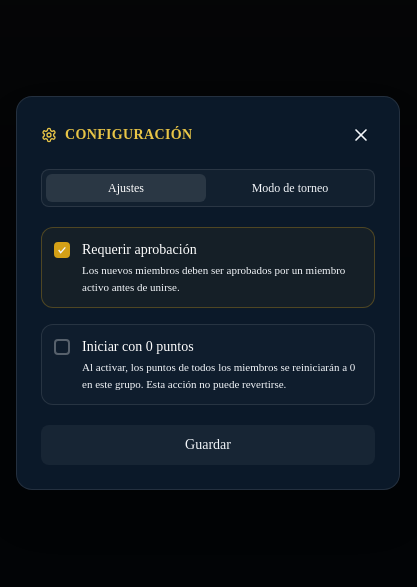
Scenario: TournamentSettingsModal – mutation callbacks › score_from_zero toggle shows confirmation panel when clicked
# Second checkbox is the score_from_zero toggle
Click the checkbox named "Iniciar con 0 puntos".
click(208, 364)  # box [41,324,375,405]
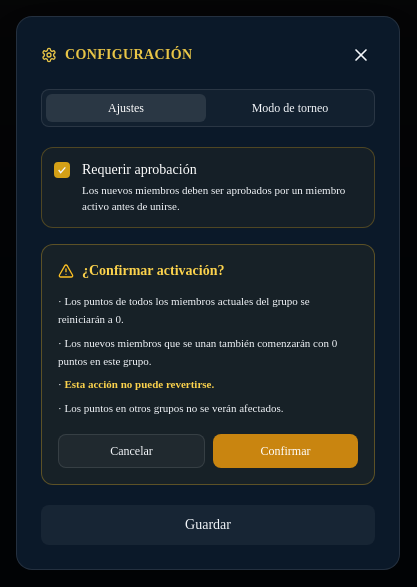
Result: the text "¿Confirmar activación?" is shown at [82,261,224,281]
